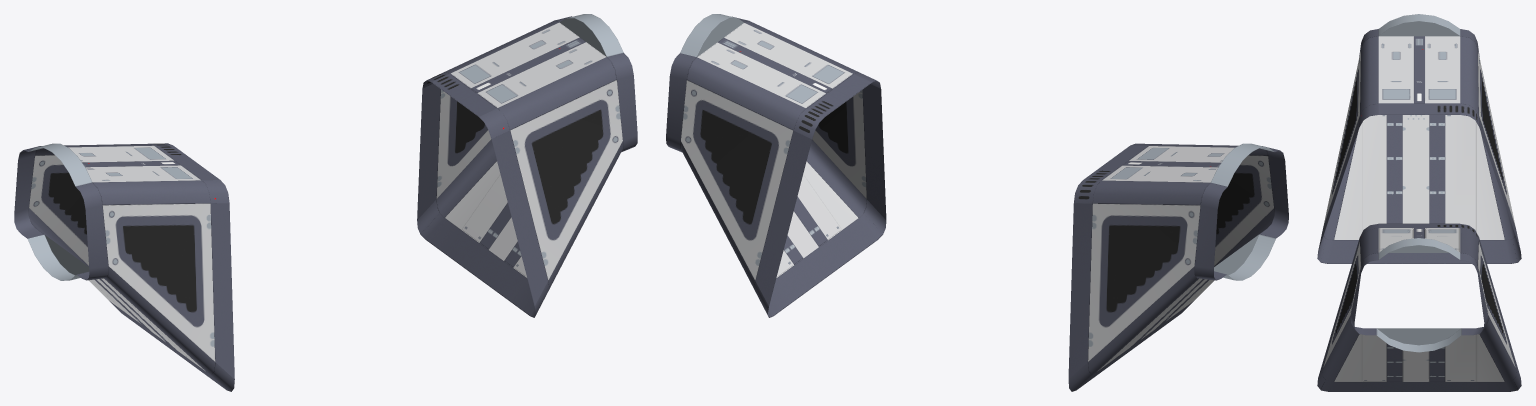
File: Wings_Support_01.FBX
The picture shows the model from 3 angles, left to right: view 1: azimuth 30°, elevation 25°; view 2: azimuth 150°, elevation 25°; view 3: azimuth 270°, elevation 25°; orthographic projection. The views are drawn at different scales.
Parts seen in each view (by area): view 1: Wings_Support_01; view 2: Wings_Support_01; view 3: Wings_Support_01.
Boxes of the visible parts, x1,y1,x2,y2 form: Wings_Support_01: [14, 14, 637, 391]; Wings_Support_01: [666, 14, 1288, 391]; Wings_Support_01: [1317, 14, 1521, 391].
Size of the model in its own units: 16 by 6.41 by 5.97.
